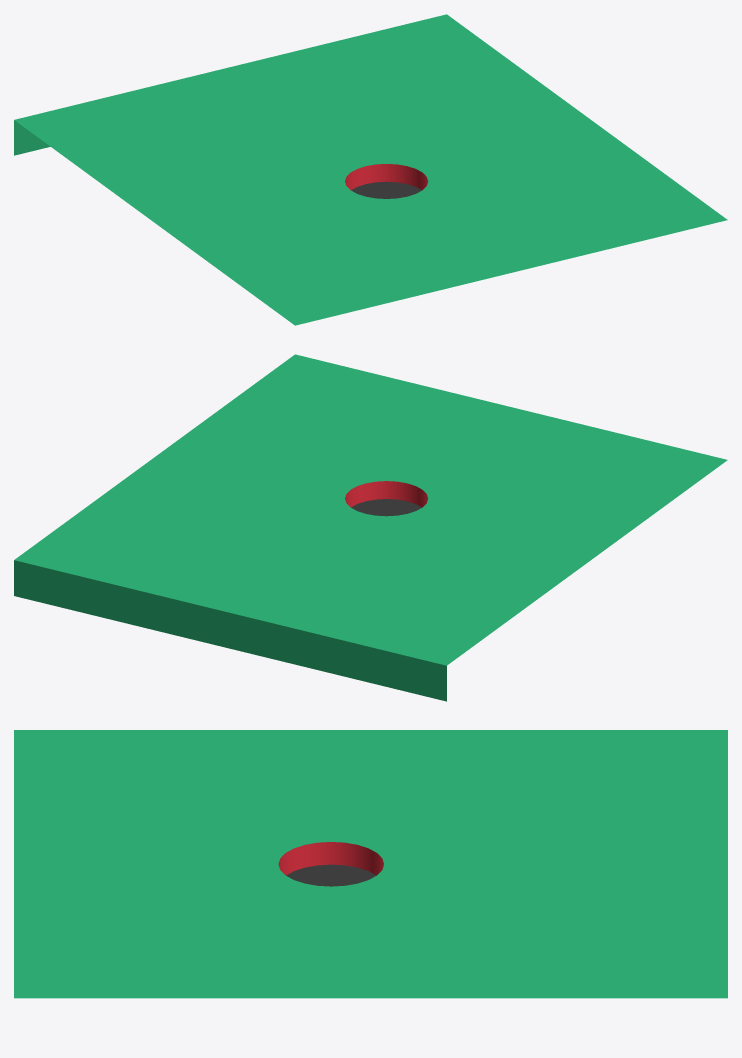
Rendered from holeSquare_base.FBX.
3 renders of one model, top to bottom at view 1: azimuth 30°, elevation 25°; view 2: azimuth 150°, elevation 25°; view 3: azimuth 270°, elevation 25°, orthographic. The views are drawn at different scales.
Parts seen in each view (by area): view 1: holeSquare; view 2: holeSquare; view 3: holeSquare.
Part boxes in pixels (<box>): holeSquare: <box>14,14,727,325</box>; holeSquare: <box>14,354,727,701</box>; holeSquare: <box>14,730,727,998</box>.
Size of the model in its own units: 79.99 by 6.33 by 89.99.
